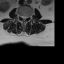CCS_normal: (23, 14, 25, 23)
LFS_normal: (27, 14, 29, 19)
LLS_normal: (25, 14, 27, 21)
RFS_stenosis: (19, 13, 21, 19)
RLS_normal: (21, 14, 23, 20)
